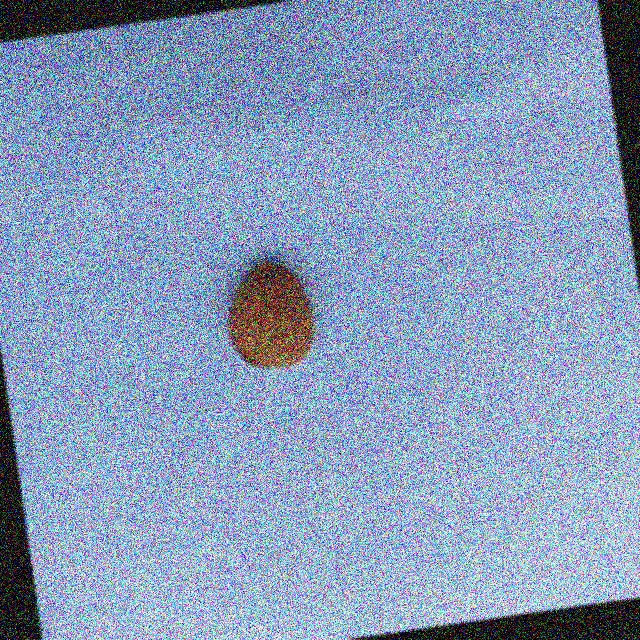grade1: (212, 247, 330, 382)
